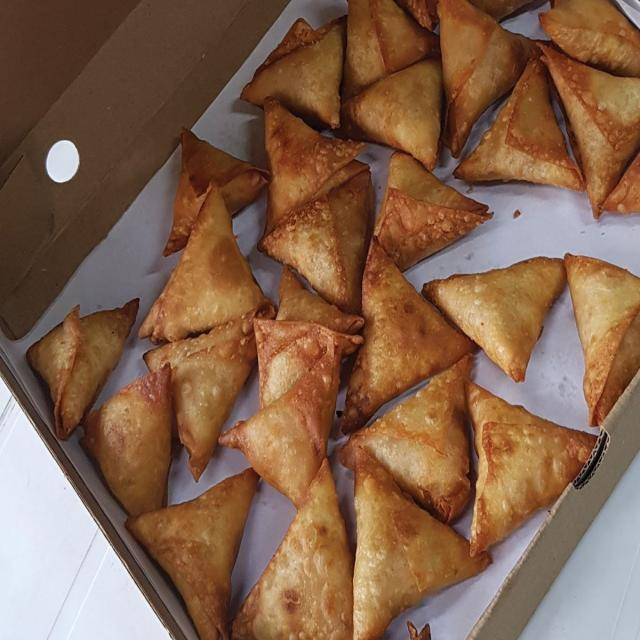Samboosa: (180, 0, 640, 368), (151, 372, 592, 614), (21, 292, 166, 513)
